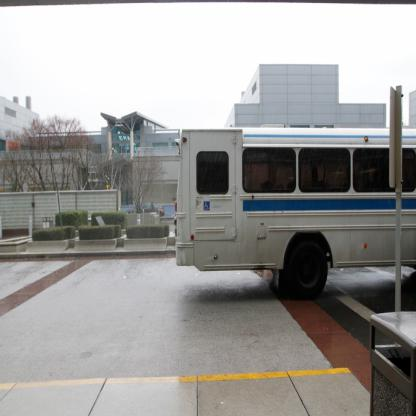Bus: (172, 127, 416, 300)
